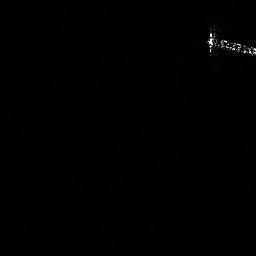ship: (206, 30, 256, 57)
